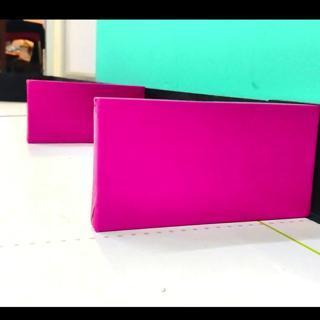xparking: (98, 102, 320, 232), (30, 83, 93, 144)
